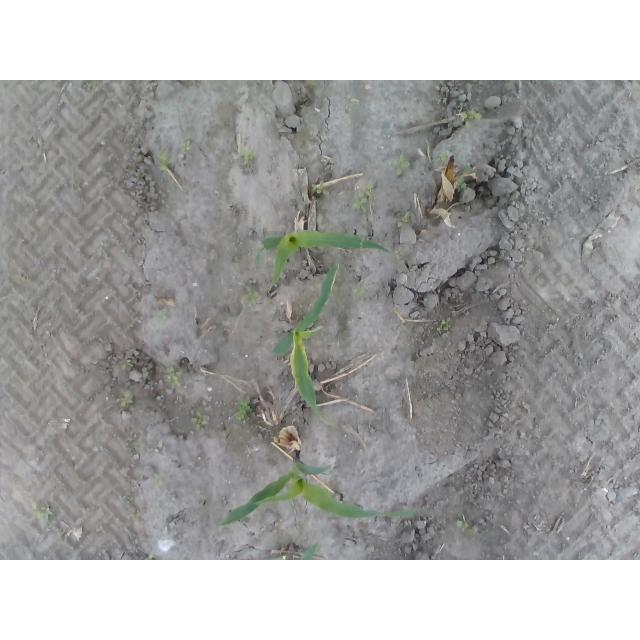Maize: (216, 448, 431, 528), (269, 263, 339, 429), (255, 229, 391, 287), (277, 544, 319, 560)
Weeds: (351, 179, 371, 212), (236, 399, 255, 423), (161, 367, 184, 385), (191, 409, 209, 431), (457, 520, 480, 537), (157, 152, 175, 172), (242, 284, 259, 304), (391, 152, 412, 168), (118, 391, 135, 410), (239, 147, 255, 167), (456, 108, 480, 121), (436, 319, 449, 337), (126, 511, 142, 525), (32, 506, 49, 519), (456, 176, 468, 193), (152, 473, 164, 487), (353, 286, 368, 296), (392, 248, 404, 260), (310, 182, 322, 194), (157, 308, 168, 320), (400, 213, 410, 225), (122, 360, 134, 369), (181, 143, 191, 153), (439, 154, 450, 163), (142, 553, 154, 560), (464, 163, 473, 169)
